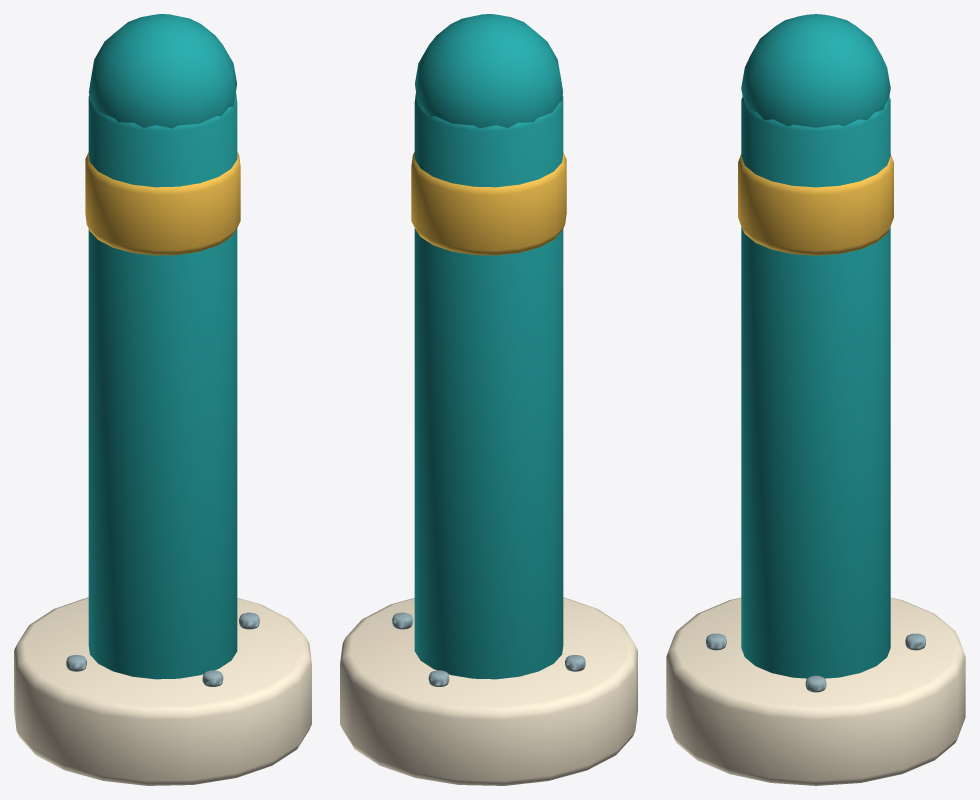
File: Bollard.fbx
The picture shows the model from 3 angles, left to right: view 1: azimuth 30°, elevation 25°; view 2: azimuth 150°, elevation 25°; view 3: azimuth 270°, elevation 25°; orthographic projection.
Visible parts, largest first — view 1: GEO-Body; view 2: GEO-Body; view 3: GEO-Body.
Boxes of the visible parts, x1,y1,x2,y2 form: GEO-Body: (14,14,311,785); GEO-Body: (340,14,637,785); GEO-Body: (666,14,965,785).
Bounding box in the file's own units: 0.48 × 1.25 × 0.48.
